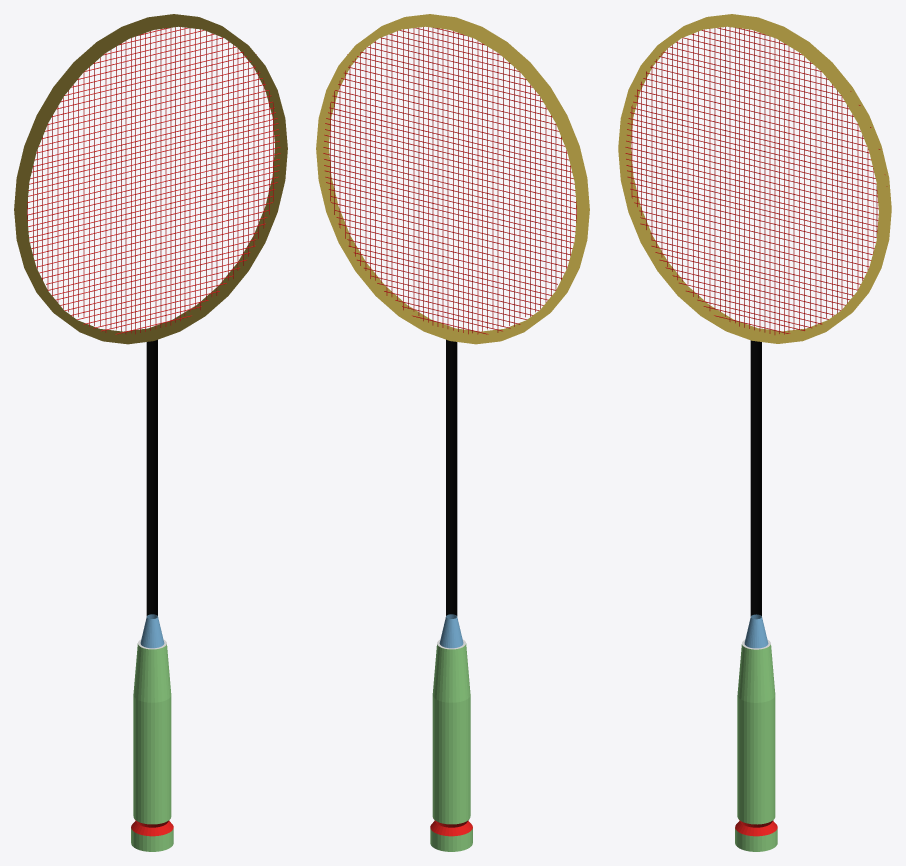
Rendered from badminton_racket.glb.
3 renders of one model, left to right at view 1: azimuth 30°, elevation 25°; view 2: azimuth 150°, elevation 25°; view 3: azimuth 330°, elevation 25°, orthographic.
Visible parts, largest first — view 1: Cylinder.025_2; view 2: Cylinder.025_2; view 3: Cylinder.025_2.
Boxes of the visible parts, x1,y1,x2,y2 form: Cylinder.025_2: (14, 14, 287, 851); Cylinder.025_2: (316, 14, 589, 851); Cylinder.025_2: (618, 14, 891, 851).
Bounding box in the file's own units: 1.61 × 4.75 × 0.223.
